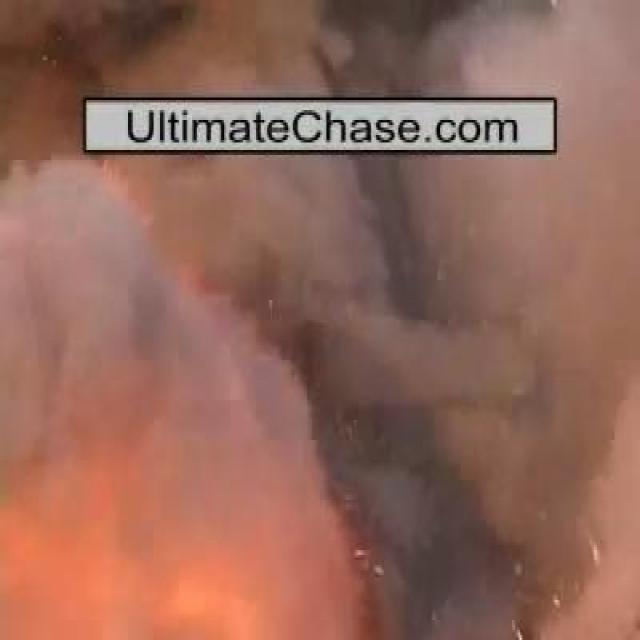Smoke: (19, 158, 594, 611), (45, 0, 536, 95)
